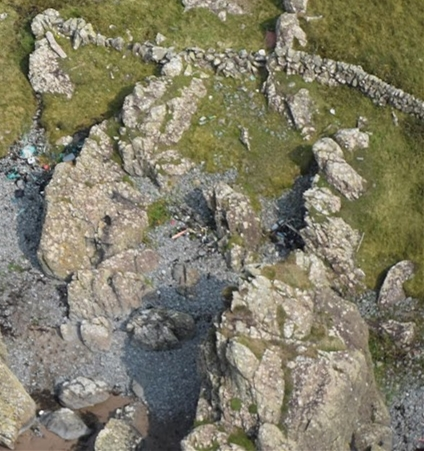scattered_barrel: (4, 137, 53, 186)
